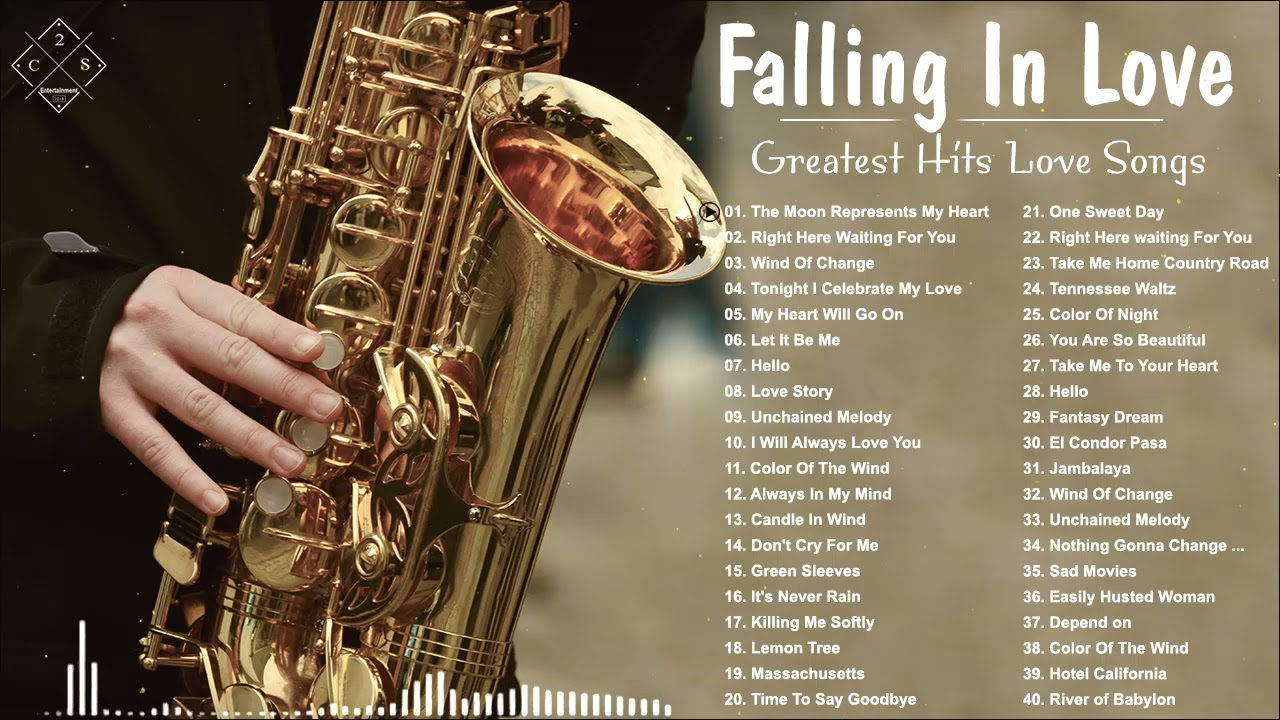Saxophone: (1, 9, 764, 720)
